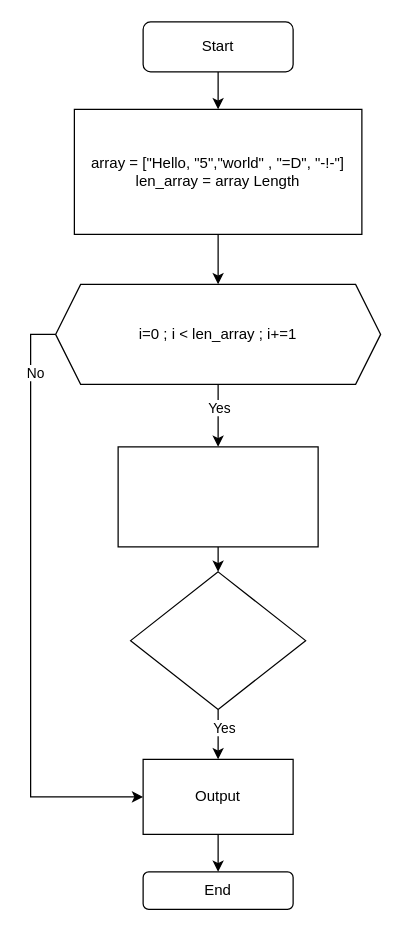
This 403x931 diagram has some shape labels left out. Here are the shapes that lost their labels. From the top down, the centre of each, then its label:
At (217,496): "str_Val = array[i]".
At (217,640): "str_Val Length <=3".
